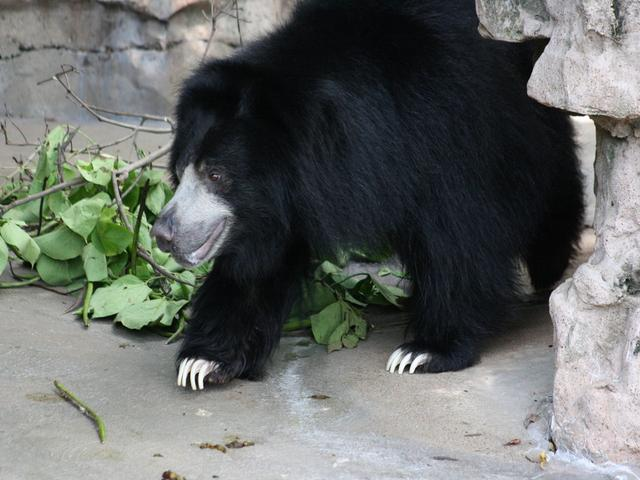Bear: (120, 37, 611, 396)
